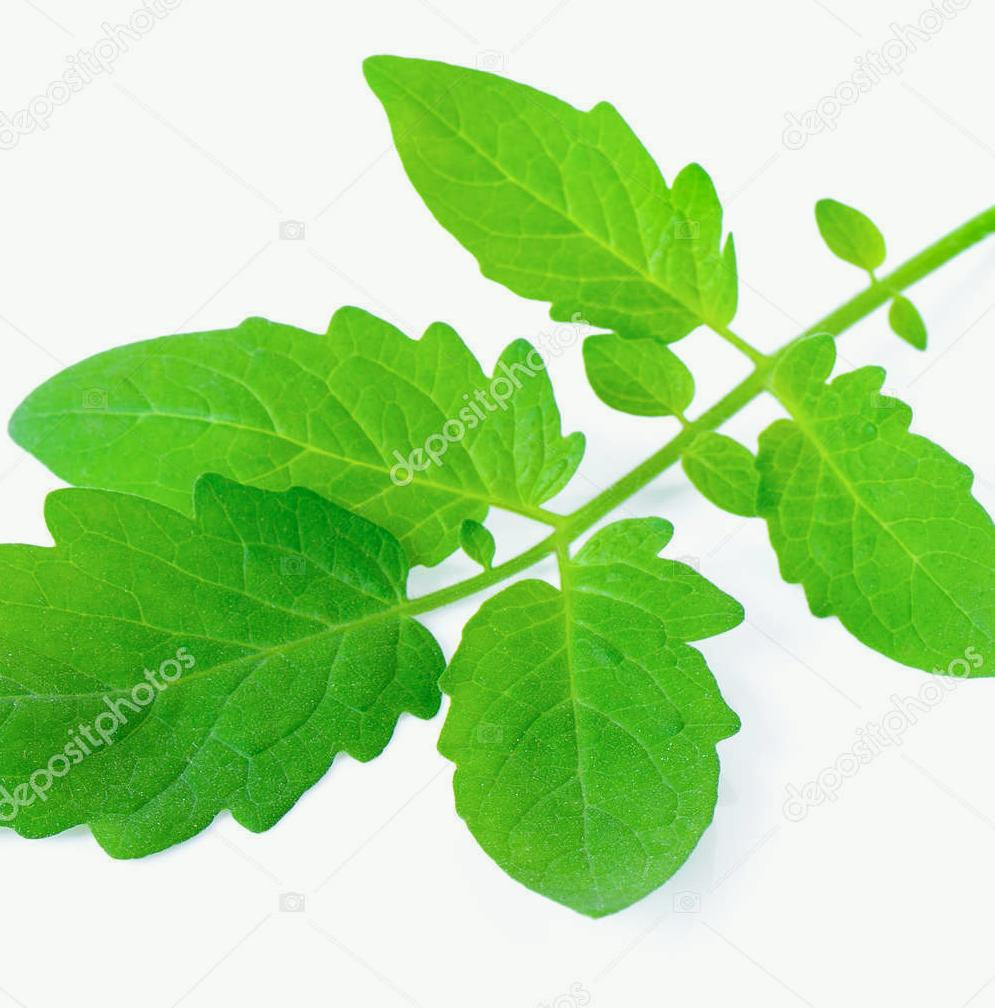Tomato leaf: (3, 289, 594, 597), (0, 480, 438, 861), (333, 14, 767, 367), (420, 508, 752, 942), (743, 353, 995, 706)
